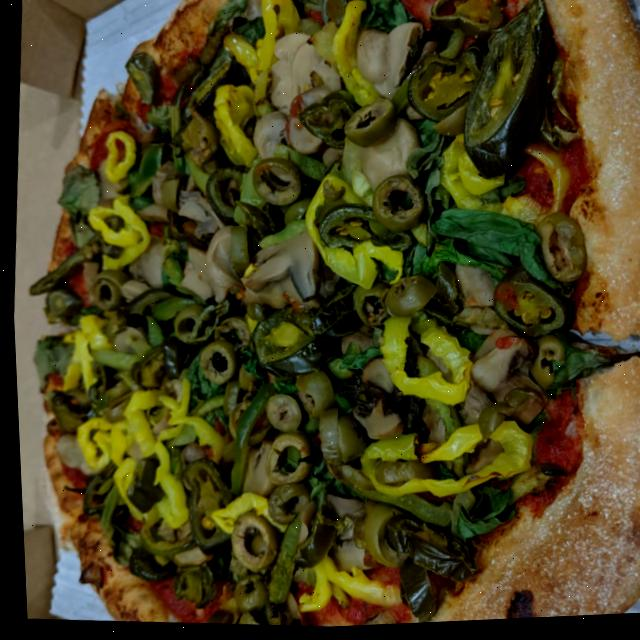green_olives: (531, 213, 587, 287), (221, 510, 276, 577), (369, 174, 428, 234), (246, 156, 303, 210), (359, 502, 405, 568), (258, 432, 310, 490), (340, 99, 394, 152), (380, 271, 436, 322), (289, 365, 333, 421), (523, 334, 563, 394), (259, 479, 308, 527), (368, 458, 439, 490), (194, 338, 238, 387), (259, 390, 302, 436), (329, 411, 363, 466), (170, 303, 210, 346), (351, 281, 385, 331), (226, 573, 265, 616), (97, 388, 130, 425), (87, 277, 119, 310), (159, 176, 180, 214)
mushrooms: (469, 330, 546, 431), (237, 230, 319, 306), (350, 19, 423, 99), (464, 332, 535, 401), (290, 40, 342, 104), (284, 86, 328, 154), (174, 248, 229, 302), (200, 226, 241, 291), (346, 400, 401, 444), (251, 112, 289, 163)
pizza: (0, 0, 640, 640)
